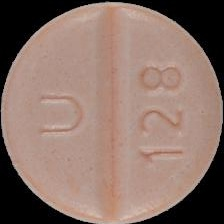55700-006: (0, 0, 224, 224)
